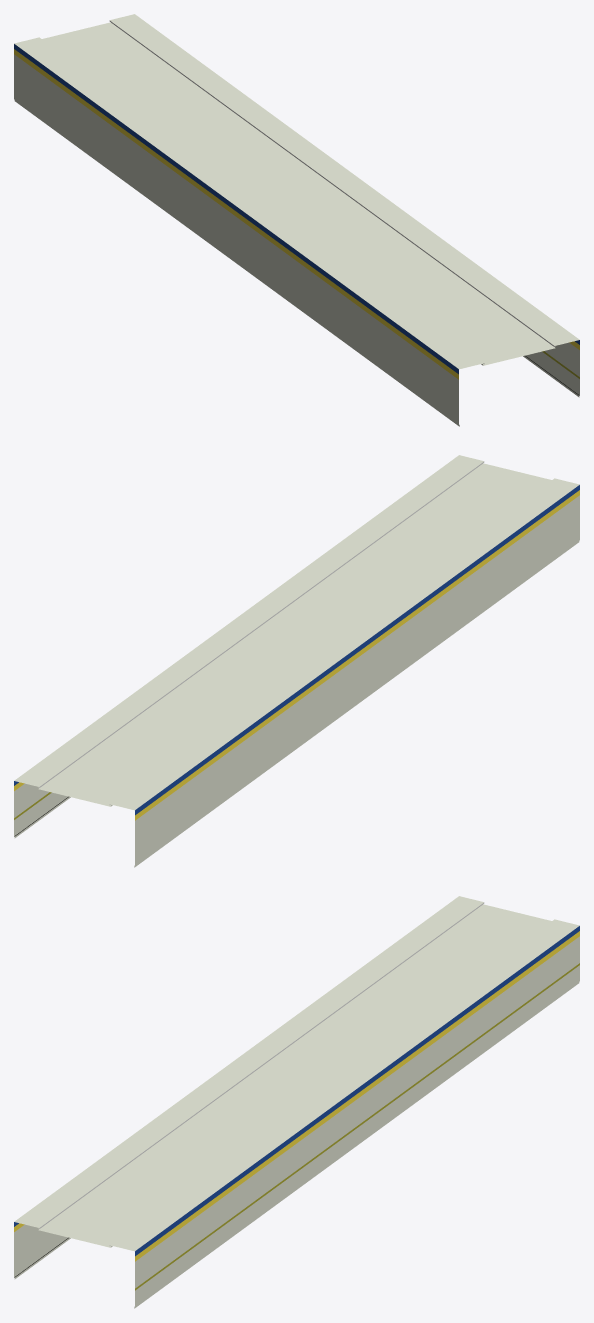
The model's file is Museum_ceiling_Wall.fbx.
3 views of the same model, one above another, from view 1: azimuth 30°, elevation 25°; view 2: azimuth 150°, elevation 25°; view 3: azimuth 330°, elevation 25° (orthographic).
Parts seen in each view (by area): view 1: Museum_Ceiling_walls; view 2: Museum_Ceiling_walls; view 3: Museum_Ceiling_walls.
Boxes of the visible parts, <box> form: Museum_Ceiling_walls: <box>14,14,579,426</box>; Museum_Ceiling_walls: <box>14,455,579,867</box>; Museum_Ceiling_walls: <box>14,896,579,1308</box>.
Size of the model in its own units: 10 by 4.56 by 63.8.
5 materials, 2 textured.
